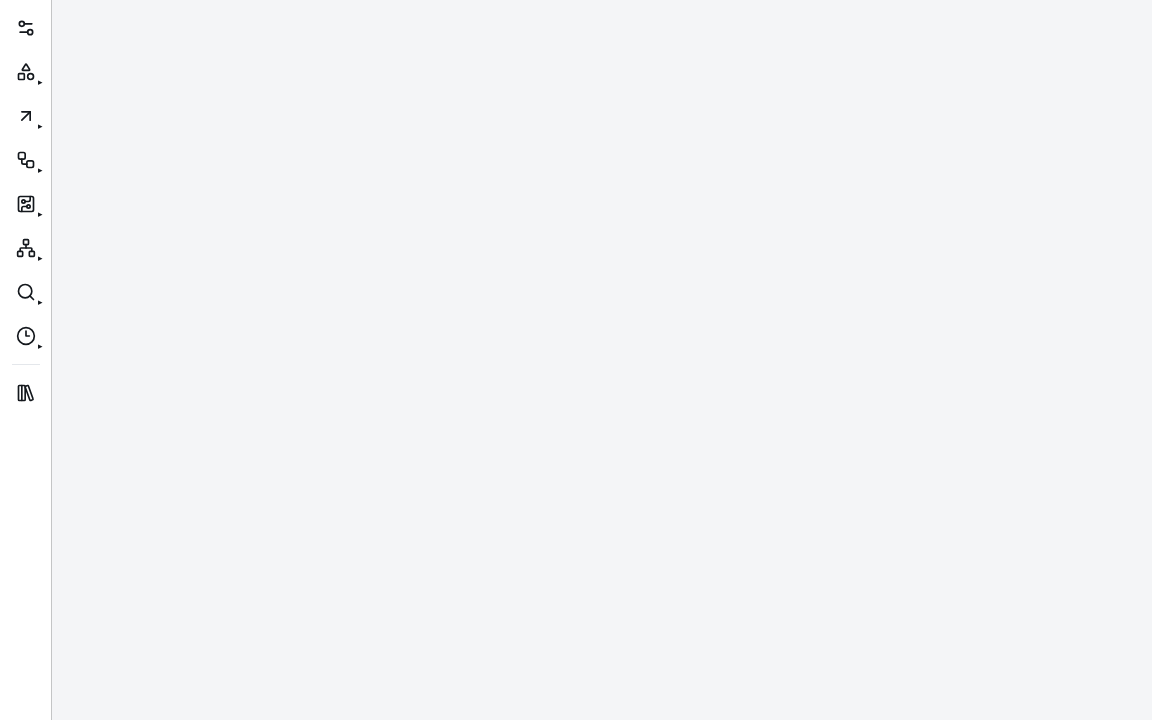
it: keeps original normal defaults while loading account presets in another browser
Later steps or results of the test are not shown.
Check: the button named "Basic shapes" is shown, box [6, 52, 46, 92]
What coordinates should you click on to do the following:
click the button named "Libraries and presets"
I would click on:
 (26, 28)
Its box is [6, 8, 46, 48].
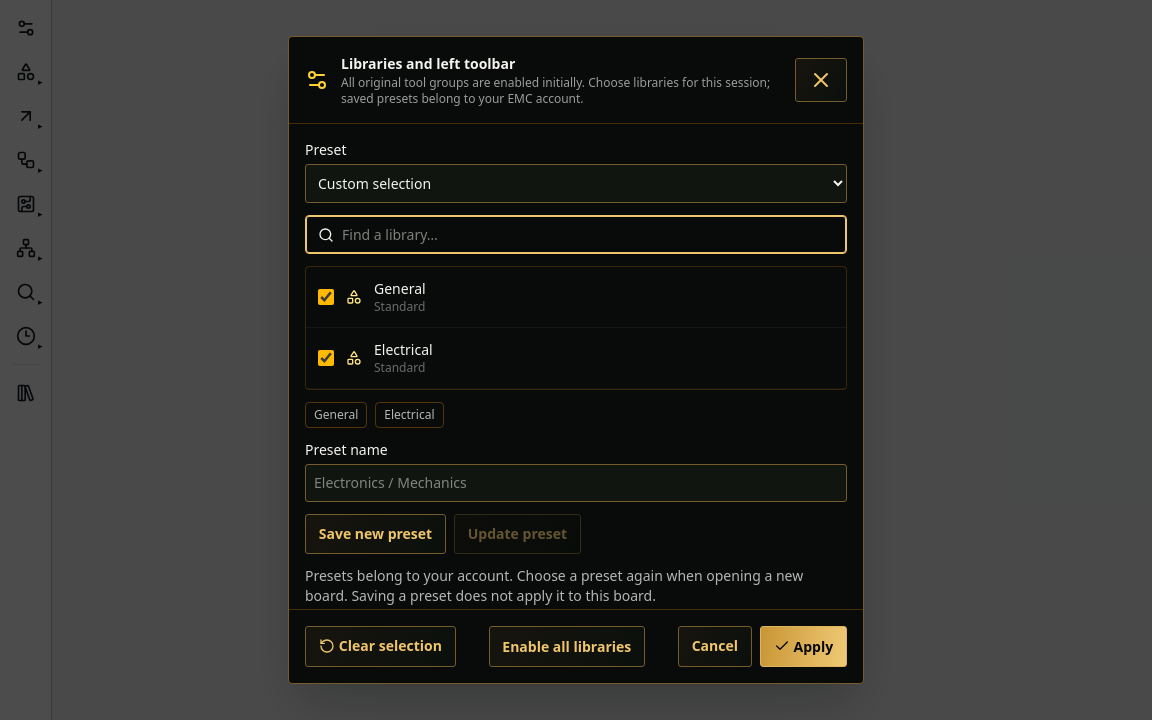
Check: the button "Clear selection" is shown, box [305, 626, 456, 667]
